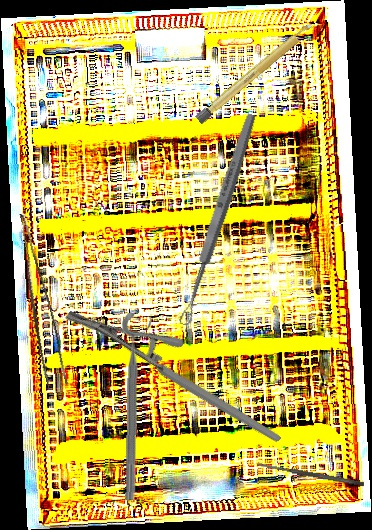Fixation Ring: (119, 312, 154, 501)
Needle Holder: (63, 259, 282, 496)
Scalpel Handle: (194, 20, 317, 125)
Spatula Surgical: (256, 460, 365, 488)
Surgical Spoon: (176, 112, 259, 327)
Tissue Forceps: (0, 212, 73, 391)
